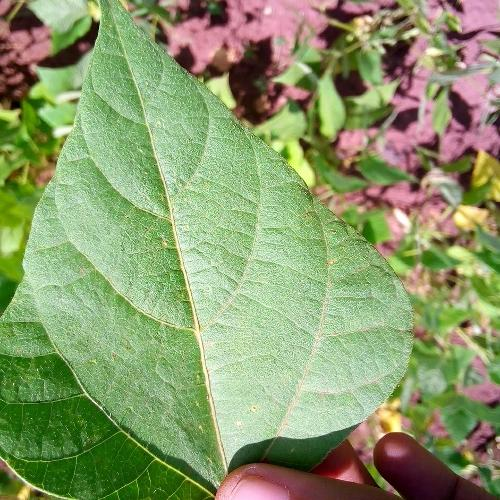sehat: (220, 226, 361, 392), (26, 424, 139, 484)
